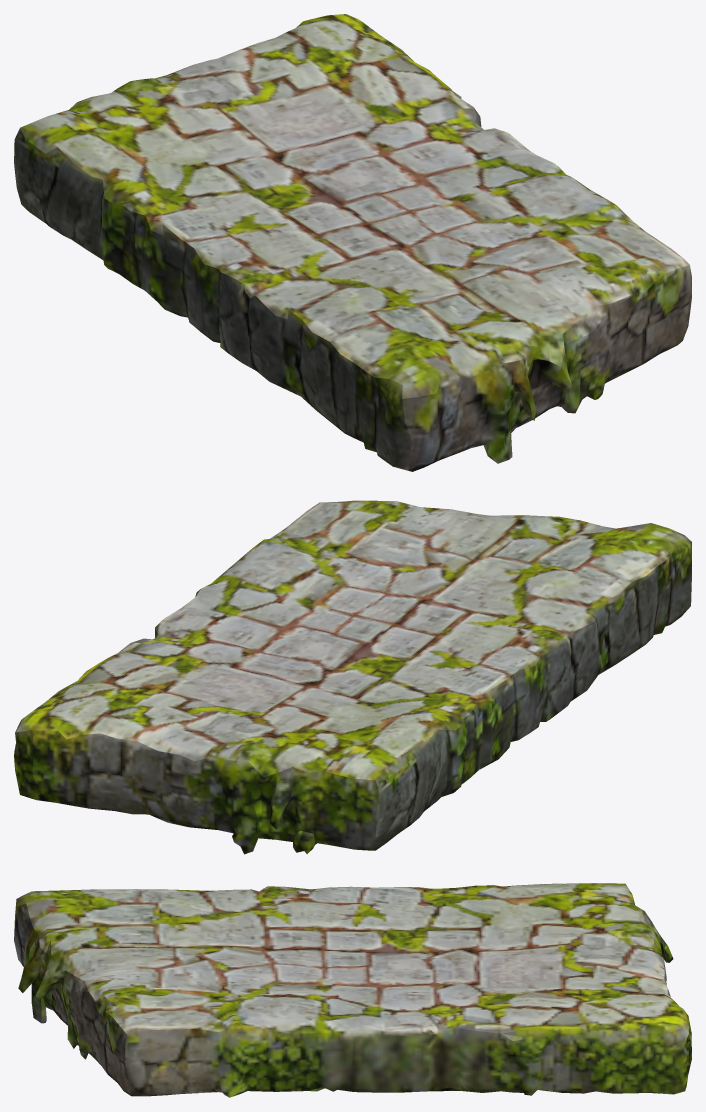
Rendered from F3D_17_StoneFloor.fbx.
3 views of the same model, one above another, from view 1: azimuth 30°, elevation 25°; view 2: azimuth 150°, elevation 25°; view 3: azimuth 270°, elevation 25° (orthographic). The views are drawn at different scales.
Parts seen in each view (by area): view 1: F3D_17_StoneFloor; view 2: F3D_17_StoneFloor; view 3: F3D_17_StoneFloor.
Part boxes in pixels (x1,y1,x2,y2): F3D_17_StoneFloor: [14, 14, 691, 471]; F3D_17_StoneFloor: [14, 500, 691, 854]; F3D_17_StoneFloor: [14, 883, 691, 1097].
Bounding box in the file's own units: 3.5 × 1 × 6.49.
